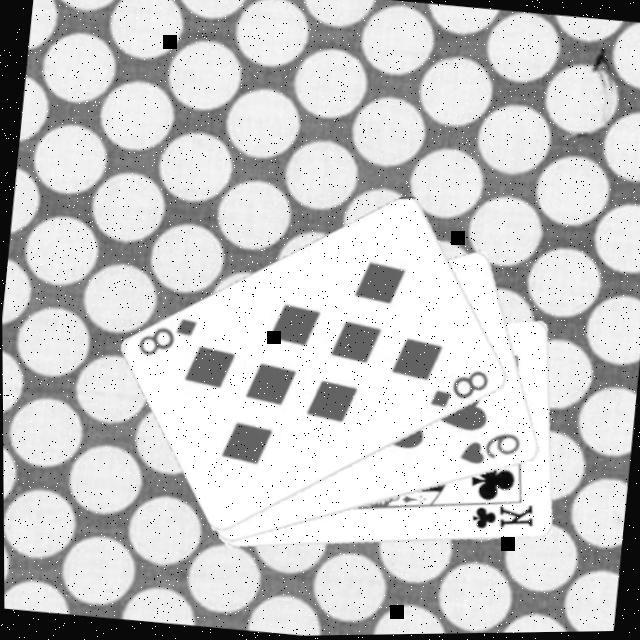8D: (133, 312, 201, 367), (425, 364, 493, 418)
9H: (455, 428, 525, 476)
KC: (459, 492, 539, 542)
